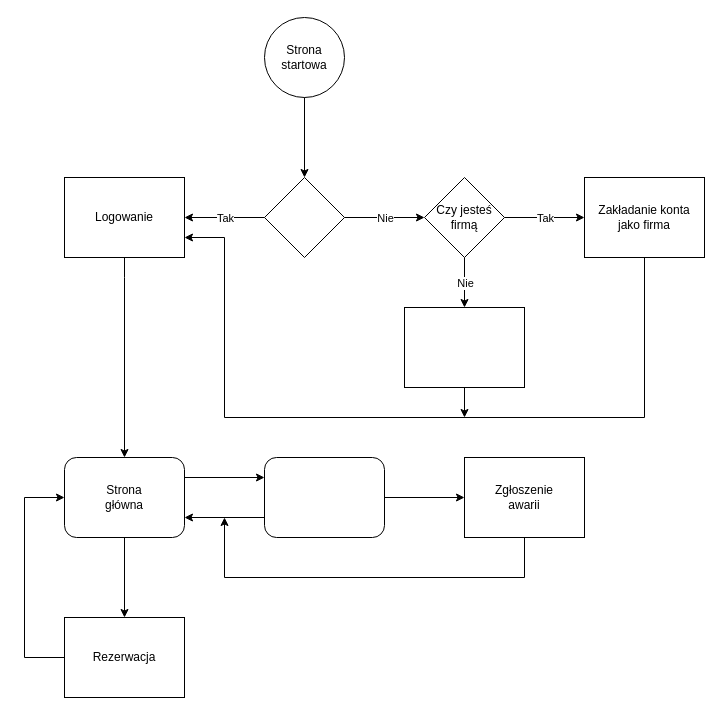
This 722x715 diagram has some shape labels left out. Each missing label, with the centre of its shape:
Czy masz konto: the point at 304,217
Historia rezerwacji: the point at 324,497
Zakładanie konta jako osoba fizyczna: the point at 464,347
